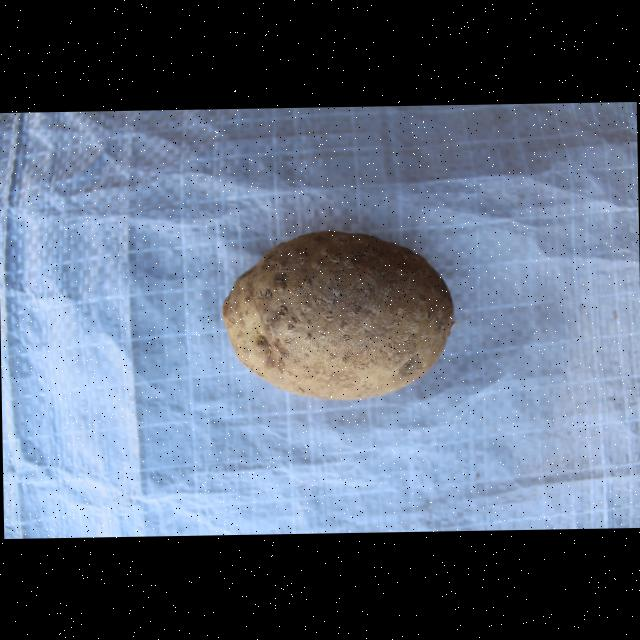Diseased-fungal potato: (217, 228, 458, 404)
